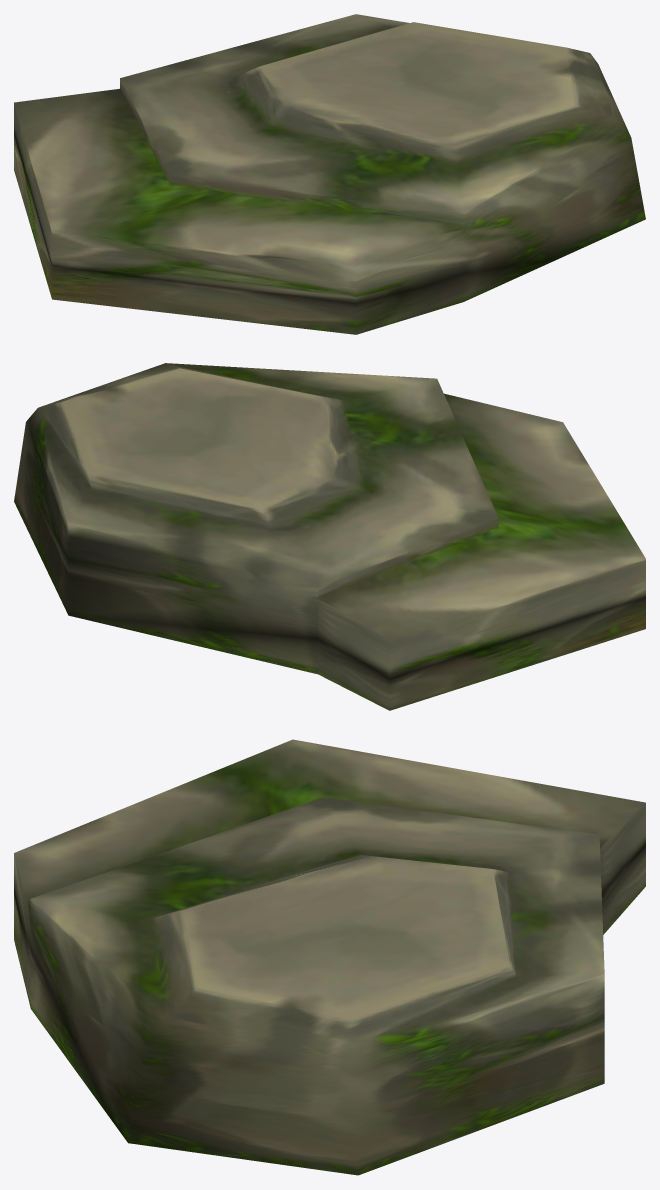
Rendered from RockFormation_4_5 (27).fbx.
3 renders of one model, top to bottom at view 1: azimuth 30°, elevation 25°; view 2: azimuth 150°, elevation 25°; view 3: azimuth 270°, elevation 25°, orthographic. The views are drawn at different scales.
Visible parts, largest first — view 1: RockFormation_4_5 (27); view 2: RockFormation_4_5 (27); view 3: RockFormation_4_5 (27).
Boxes of the visible parts, <box> form: RockFormation_4_5 (27): <box>14,14,645,334</box>; RockFormation_4_5 (27): <box>14,363,645,710</box>; RockFormation_4_5 (27): <box>14,739,645,1175</box>.
Size of the model in its own units: 355 by 60.67 by 269.
